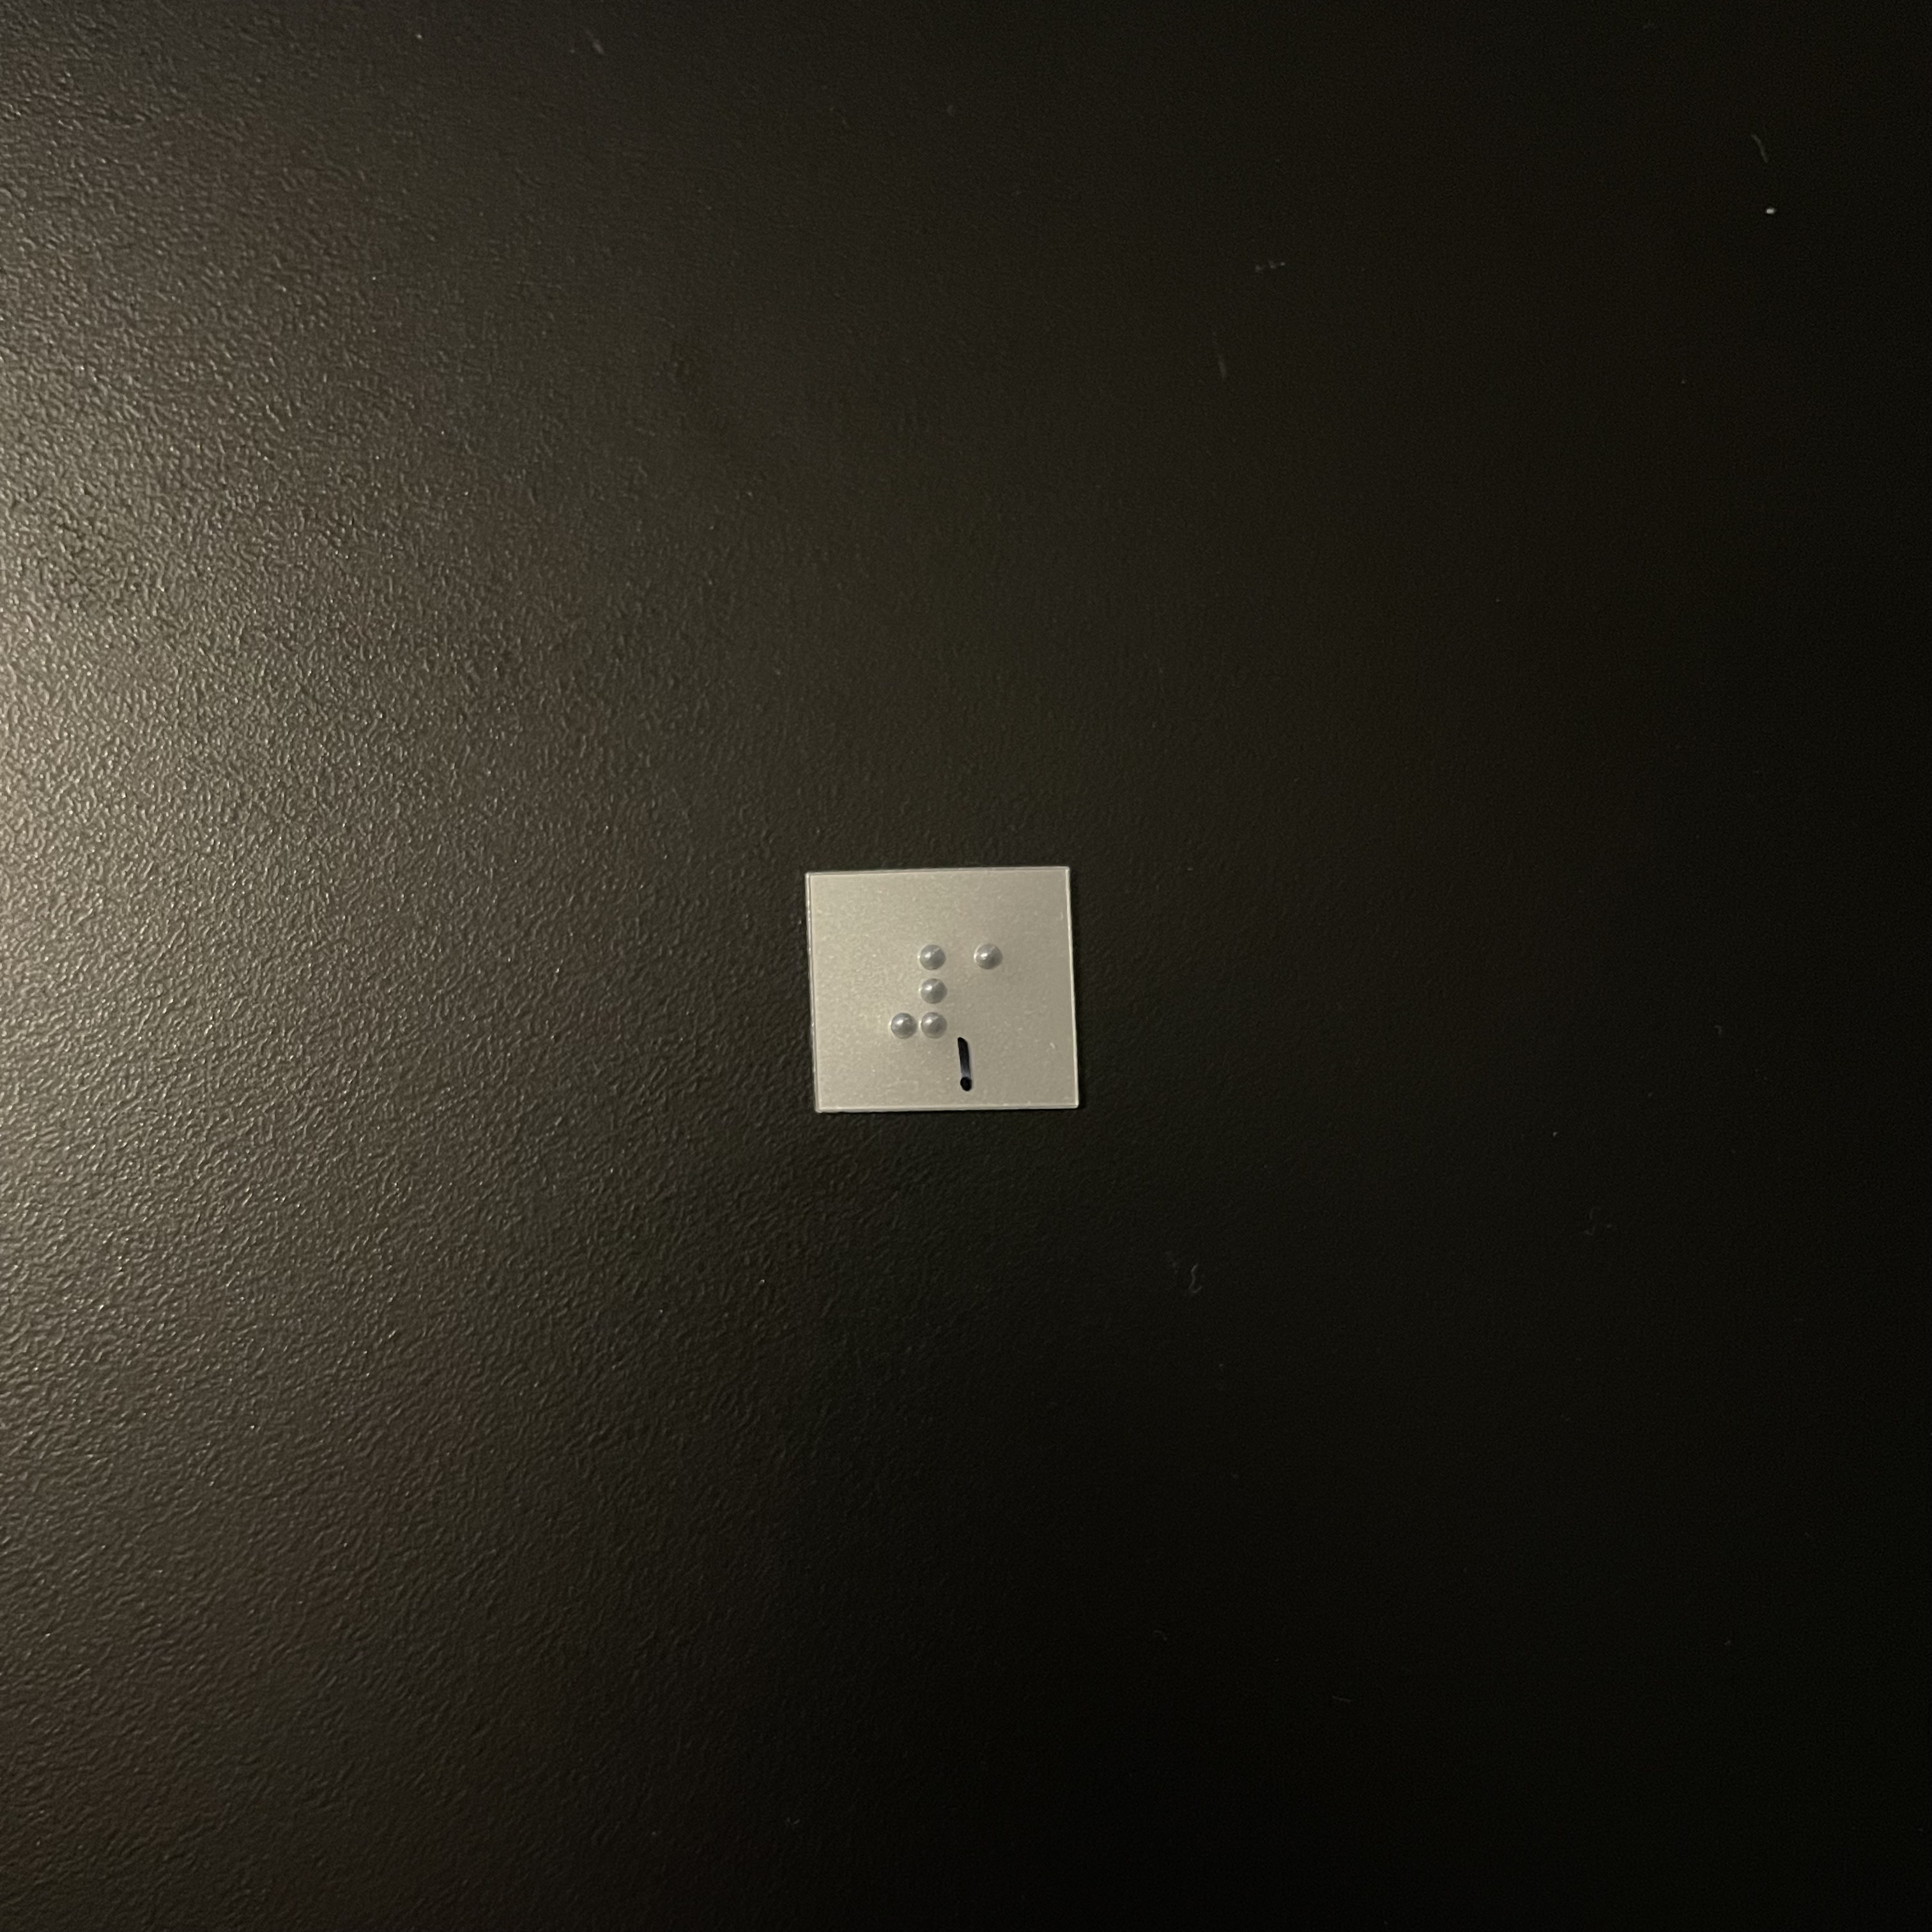#: (880, 936, 954, 1044)
a: (968, 939, 1041, 1048)
